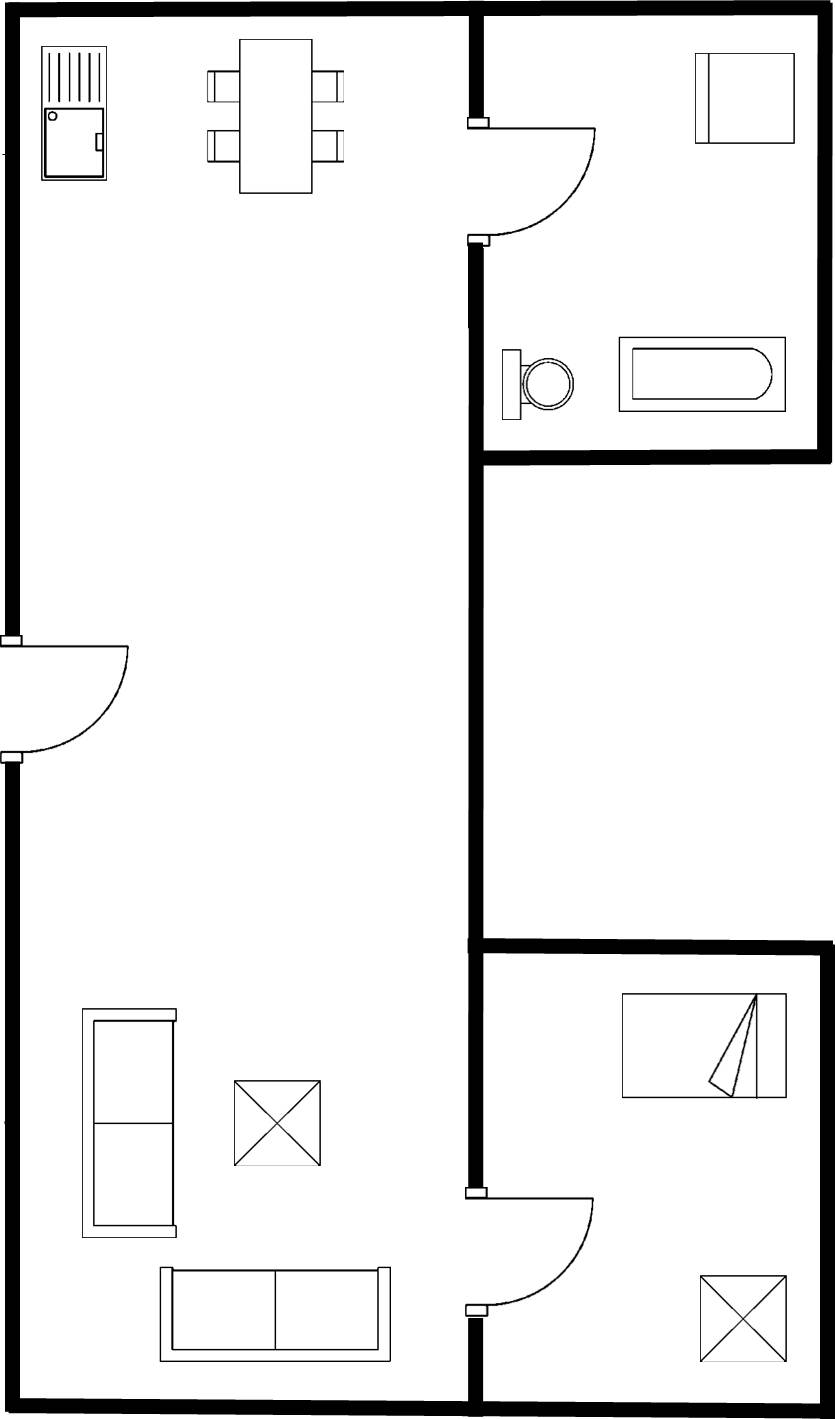bed: (615, 985, 800, 1111)
coffee_table: (226, 1073, 330, 1173), (692, 1267, 792, 1371)
dining_table: (200, 32, 354, 202)
large_sink: (496, 342, 579, 435)
large_sofa: (153, 1260, 401, 1374), (75, 999, 185, 1246)
sink: (33, 39, 117, 188)
small_sofa: (687, 45, 803, 156)
tub: (608, 330, 796, 418)
